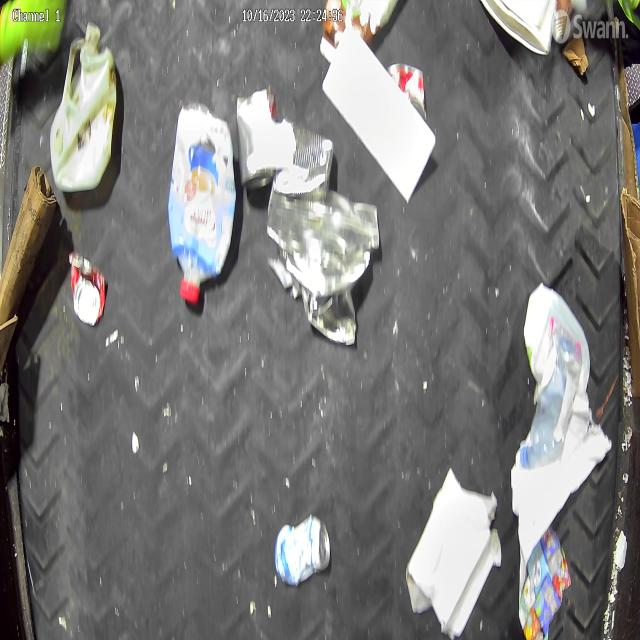can: (274, 118, 334, 198), (274, 516, 331, 587), (237, 88, 276, 189), (69, 249, 107, 328), (387, 64, 426, 120)
milk_jug: (50, 21, 117, 192), (524, 282, 590, 394)
non_white_jug: (168, 96, 236, 302)
plastic_bottle: (520, 326, 582, 469)
